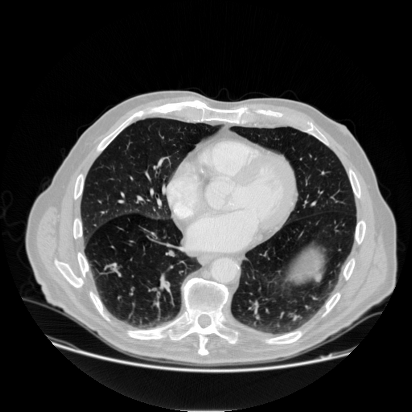nodule: (315, 275, 321, 281)
